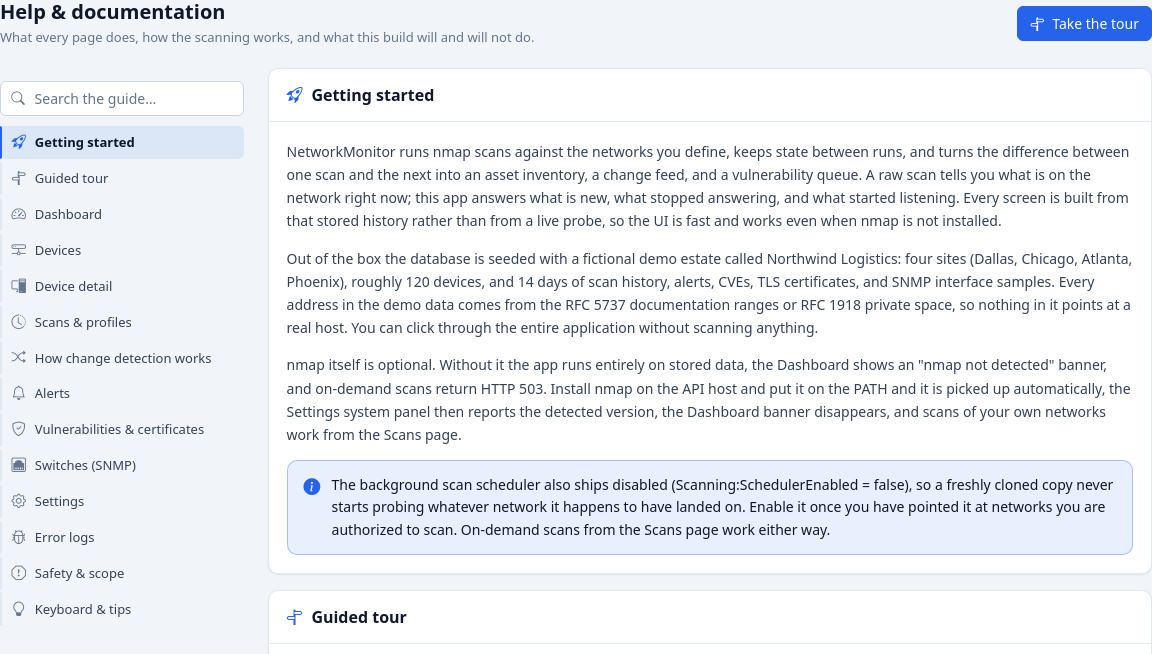
Test: HelpGuide › highlights the matched text inside a surviving section
Step 1. Type "debounce" into the search field with test id "help-search" → [122, 98], box [0,80,244,115]
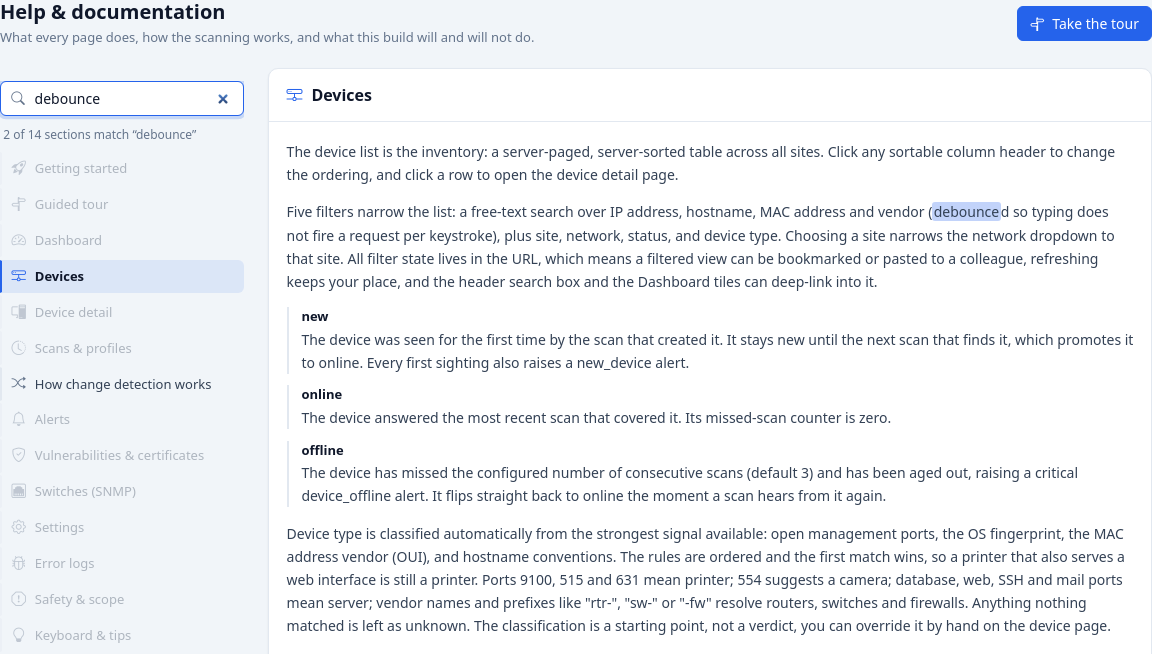
Expected: the text "debounce" is shown, [932,202,1001,222]
Expected: the text with class "help-hit" reads "debounce", [934,202,999,222]
